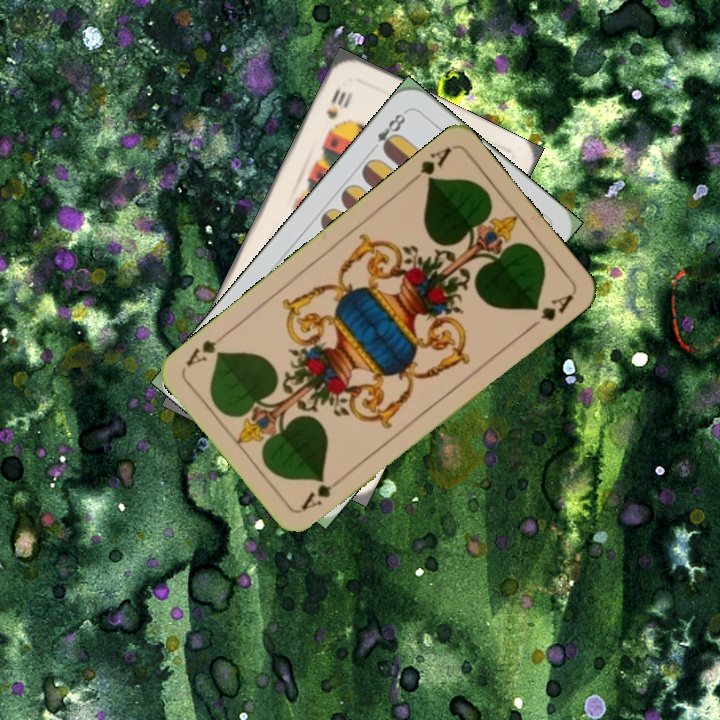E8: (366, 106, 410, 155)
GA: (405, 142, 455, 187), (297, 473, 348, 513)
S10: (321, 85, 355, 122)
